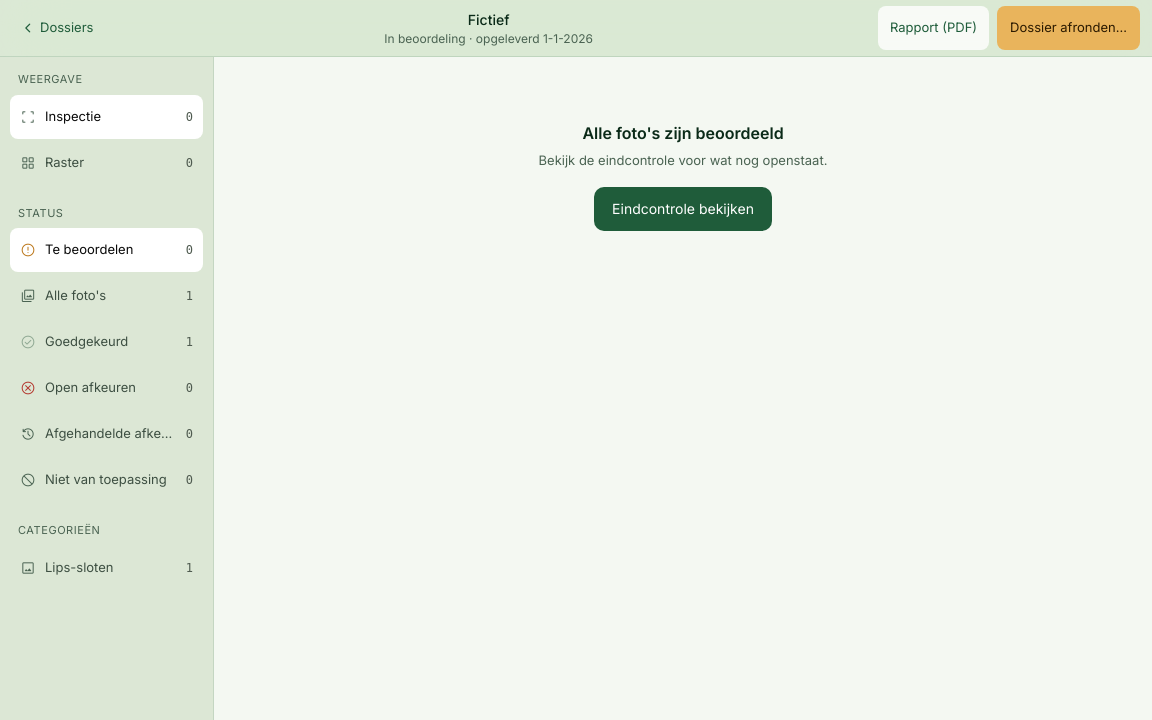
Scenario: BeoordeelDossier › Enter never finalizes globally; finalization blocked while final check fails
Expected: the text "Alle foto's zijn beoordeeld" is shown, [582, 123, 784, 143]
Press Enter
Click the button "Dossier afronden…" at (1069, 28), box [997, 6, 1140, 50]
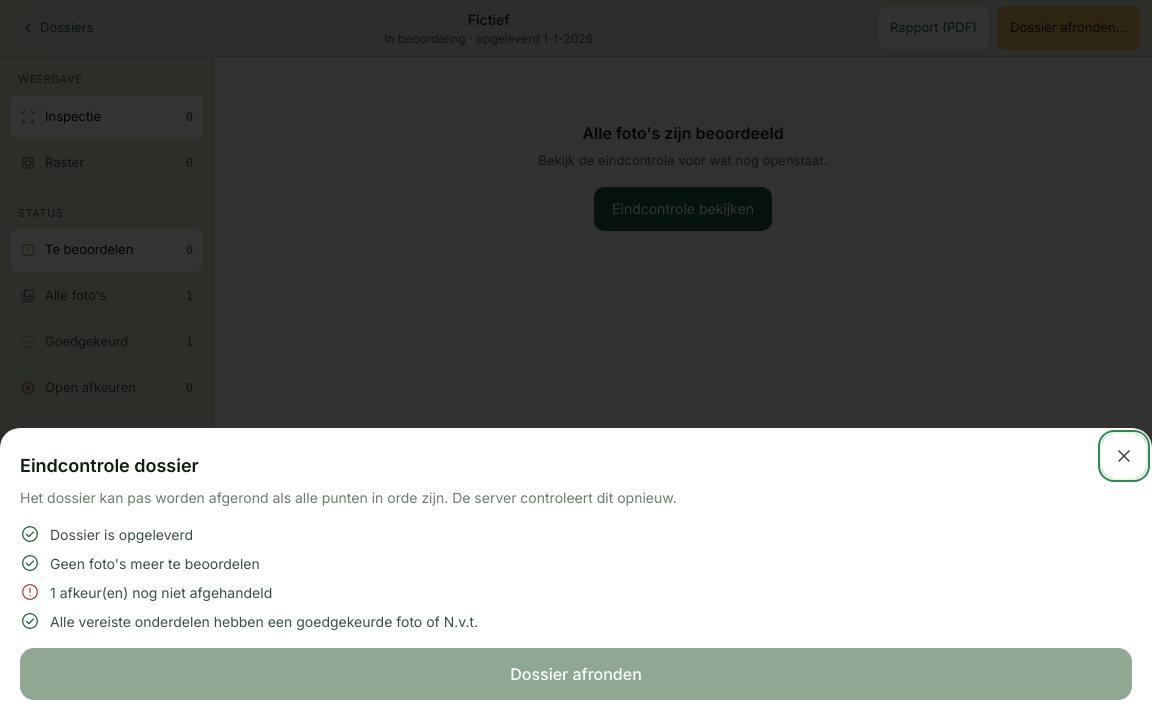
Result: the text "1 afkeur(en) nog niet afgehandeld" is shown at [50, 582, 272, 603]
Result: the button "Dossier afronden" is disabled at [20, 648, 1132, 700]
